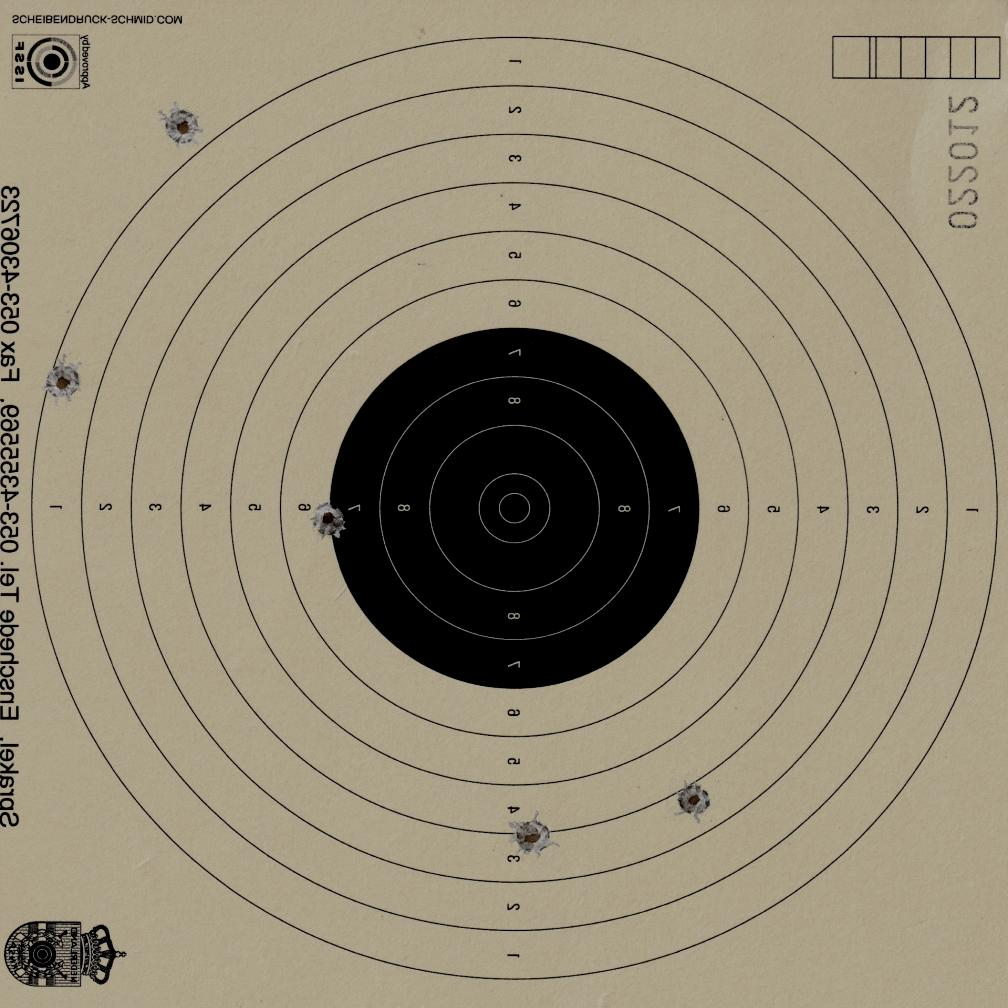0: (155, 100, 205, 150)
1: (40, 351, 85, 406)
4: (508, 811, 559, 860), (674, 778, 711, 824)
7: (309, 501, 348, 541)
Target: (24, 30, 1001, 983)
black_contour: (328, 326, 702, 690)
